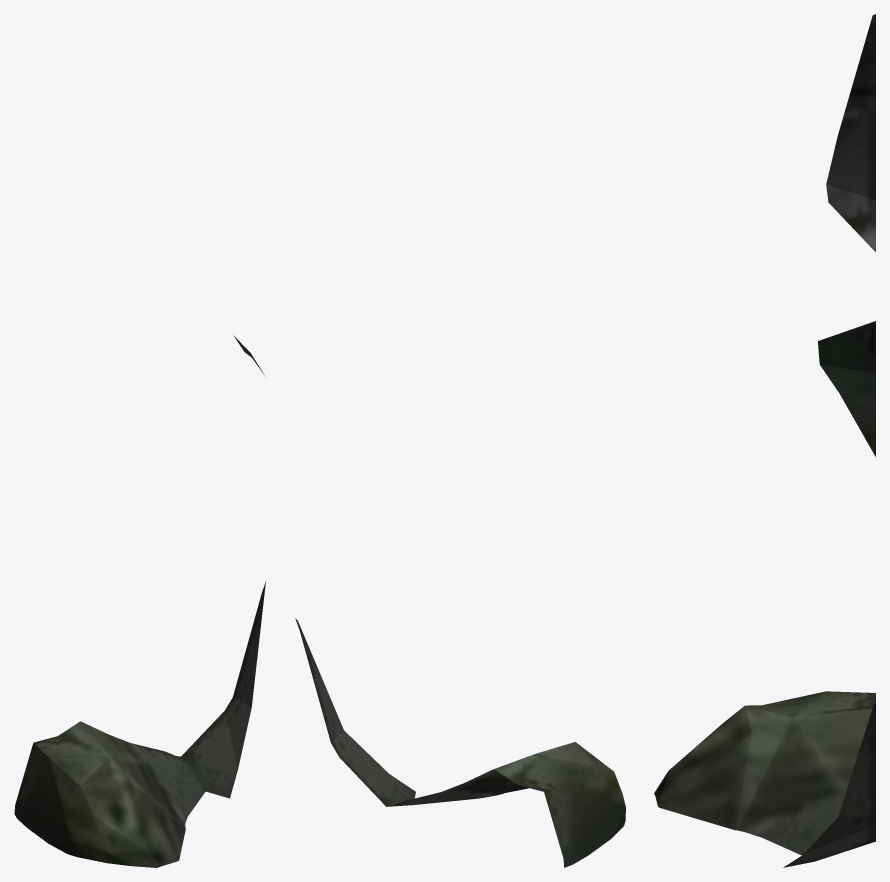
The picture shows the model from 3 angles, left to right: view 1: azimuth 30°, elevation 25°; view 2: azimuth 150°, elevation 25°; view 3: azimuth 270°, elevation 25°; orthographic projection. The views are drawn at different scales.
Size of the model in its own units: 0.8921 by 2.45 by 0.5477.
Materials: 1 (1 with a texture image).
